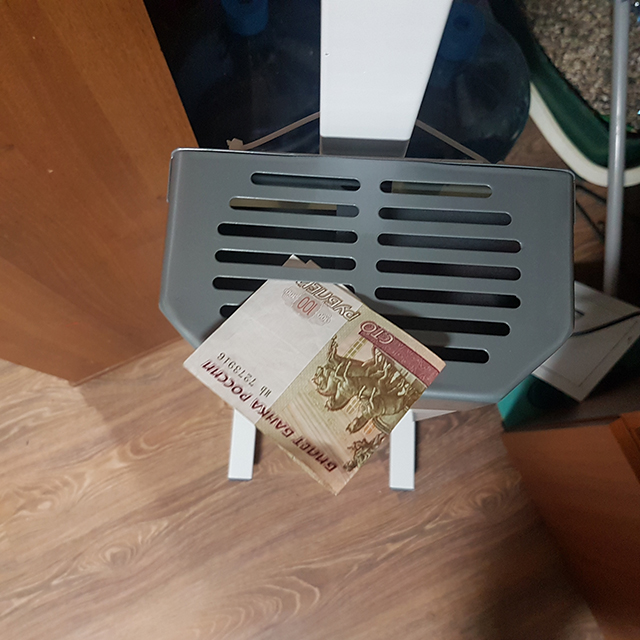banknotes: (177, 256, 446, 496)
